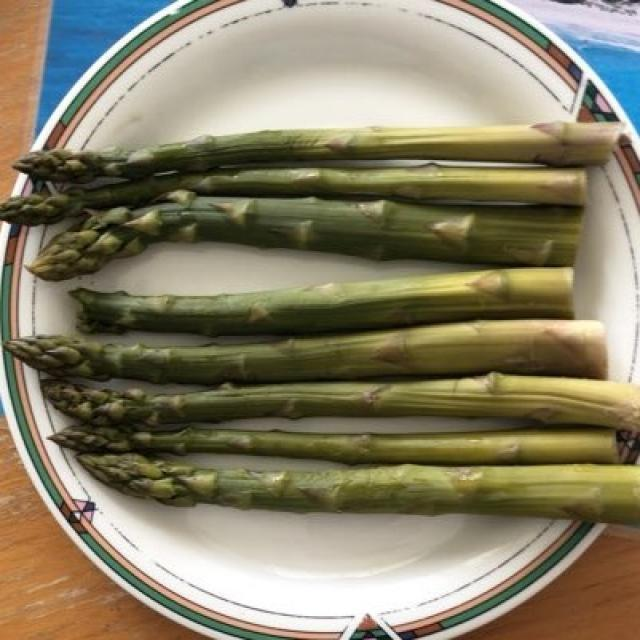asparagus: (20, 122, 634, 513)
